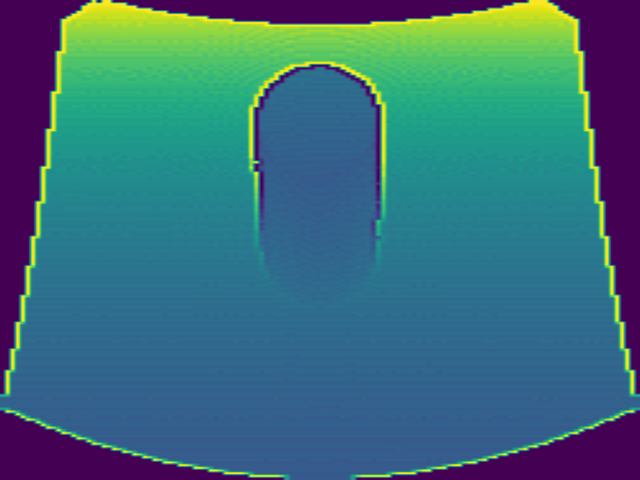cylinder: (246, 62, 386, 298)
